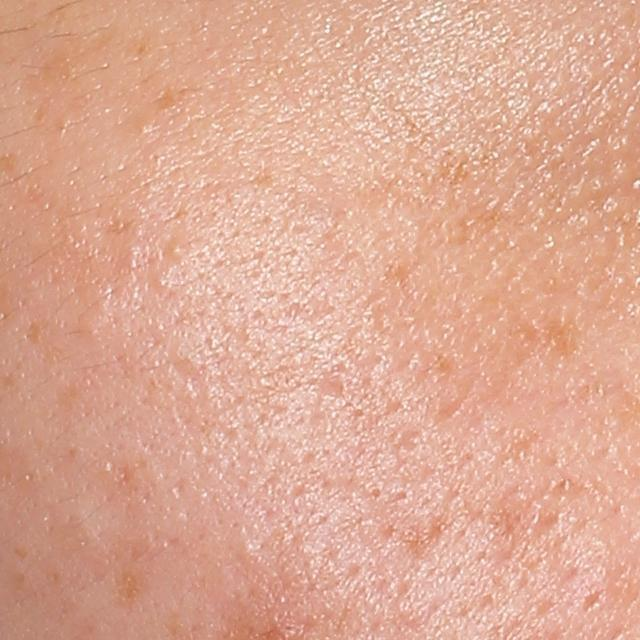comedo: (159, 233, 191, 261), (362, 480, 388, 506)
